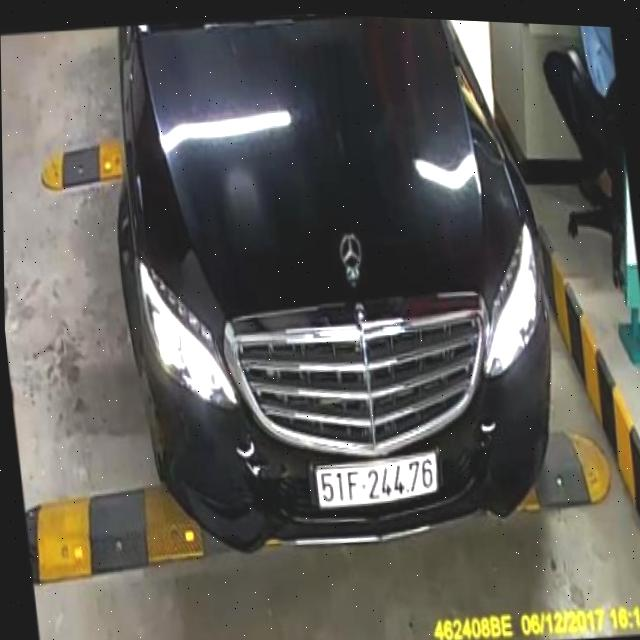car: (83, 4, 578, 579)
plate: (307, 446, 450, 516)
